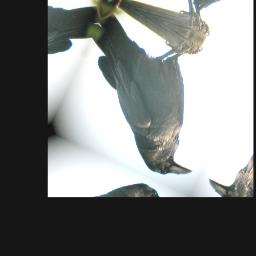Crow: (51, 4, 243, 188)
